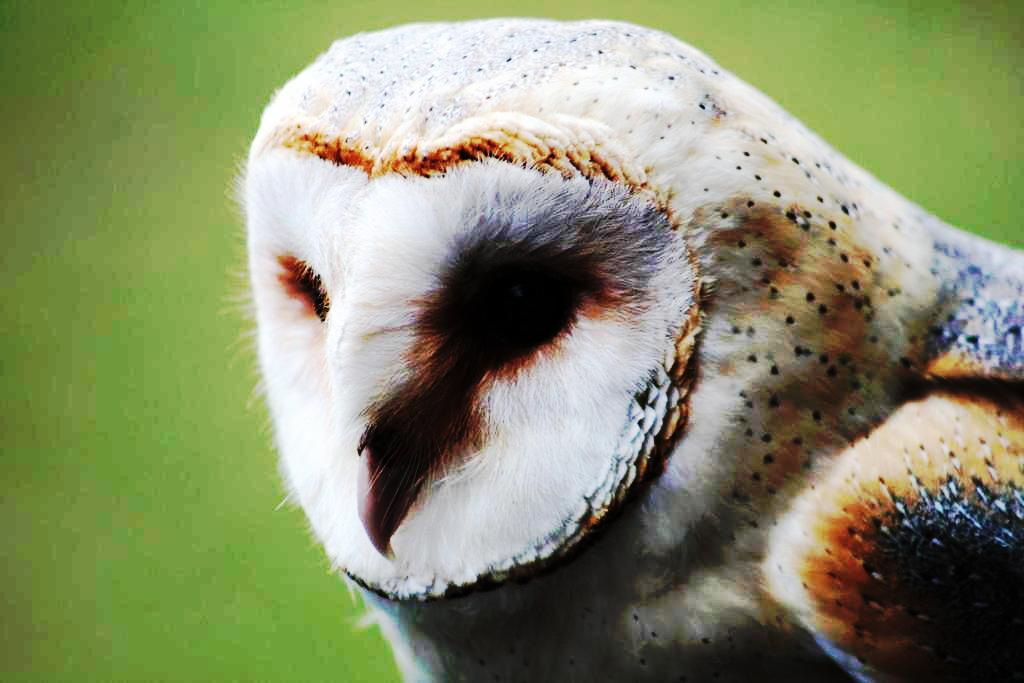Owl: (242, 14, 1023, 682)
